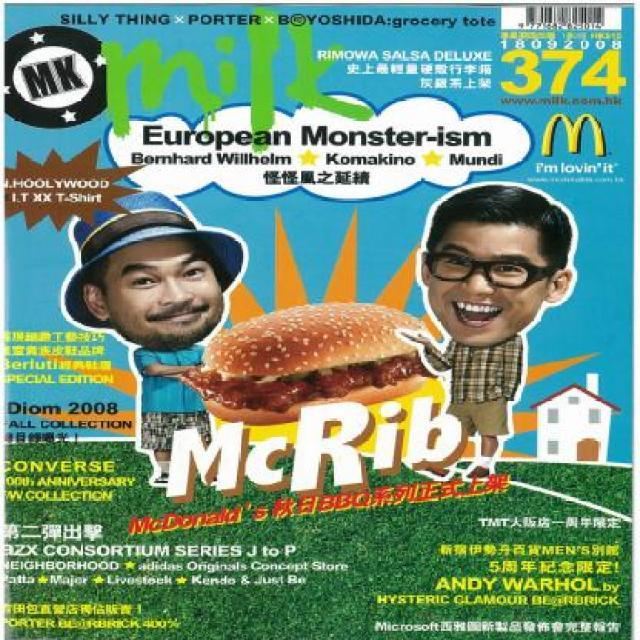Hamburger: (178, 300, 452, 425)
